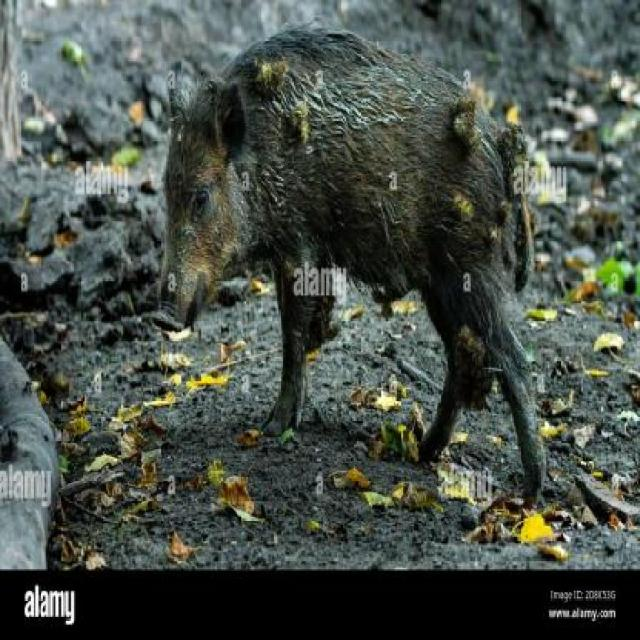wildboar: (154, 15, 555, 510)
